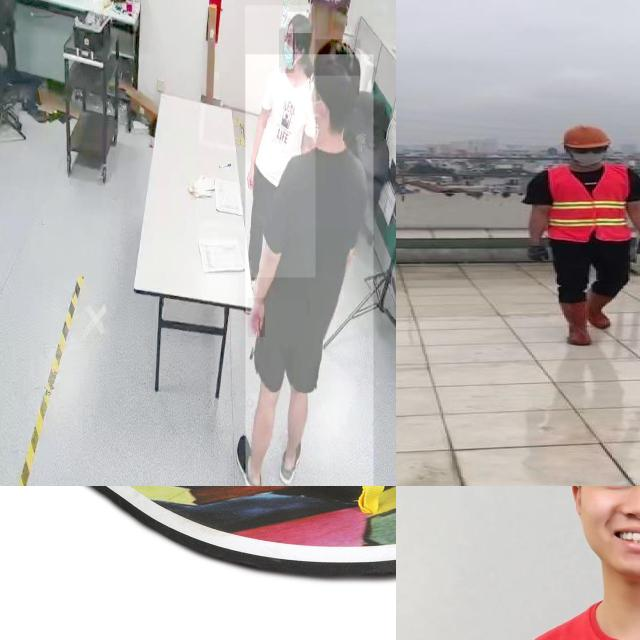Sandals: (0, 486, 396, 583)
boots: (558, 300, 594, 346), (584, 292, 614, 330)
face_mask: (279, 29, 295, 73)
hand_noglove: (248, 298, 266, 338), (243, 163, 255, 189)
head_helmet: (558, 125, 612, 152)
head_nohelmet: (314, 39, 361, 77), (288, 12, 312, 34)
person: (245, 54, 374, 486), (520, 123, 640, 352), (245, 6, 315, 278)
shoes: (232, 433, 265, 486), (277, 433, 305, 486)
vest: (550, 166, 633, 242)
